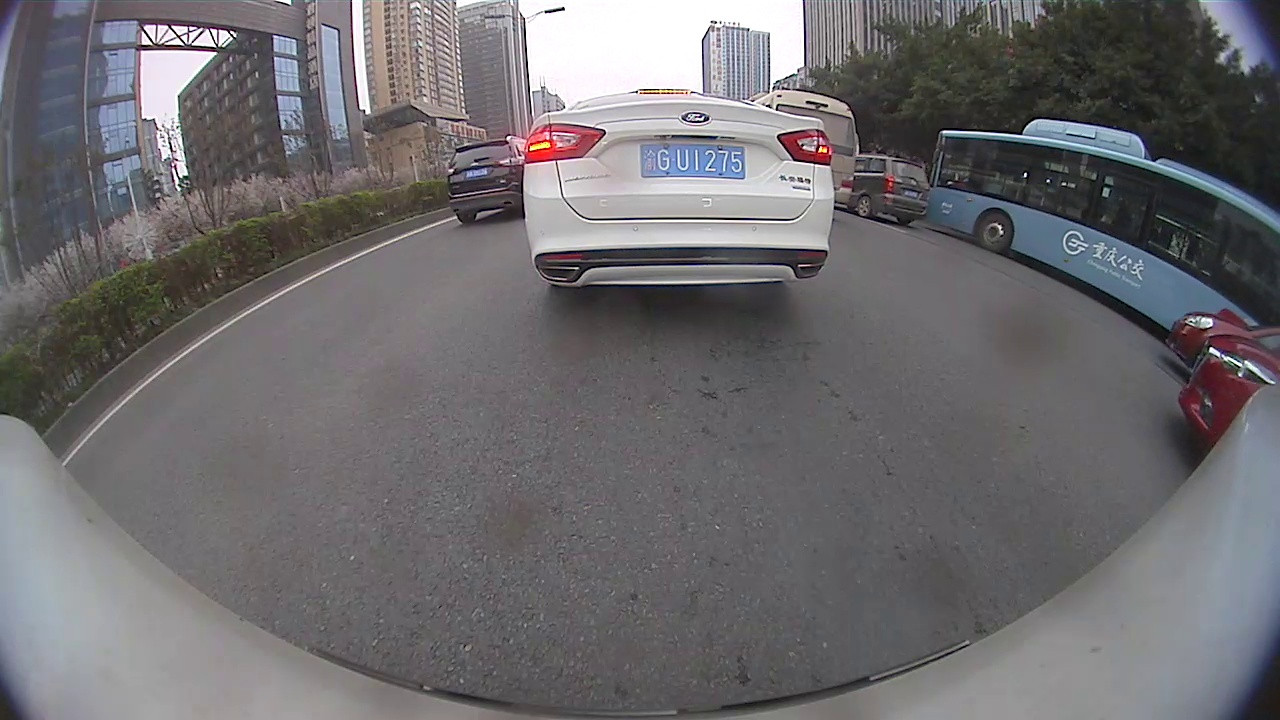bus: (927, 116, 1277, 331), (750, 90, 859, 207)
car: (521, 86, 835, 288), (1179, 334, 1279, 446), (446, 135, 528, 224), (1162, 309, 1279, 369), (850, 154, 933, 227)
front: (975, 213, 1012, 254)
rear: (853, 195, 876, 219)
